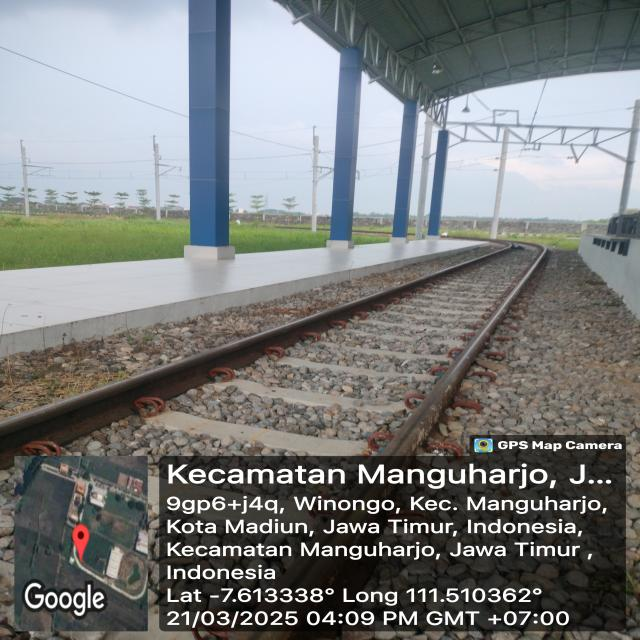rail-detection: (0, 243, 515, 469), (379, 244, 547, 456)
